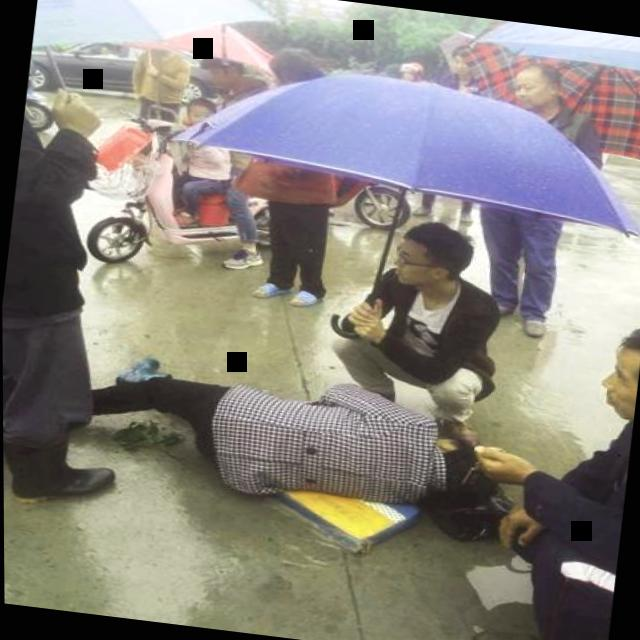Fall-Detected: (49, 339, 544, 558)
